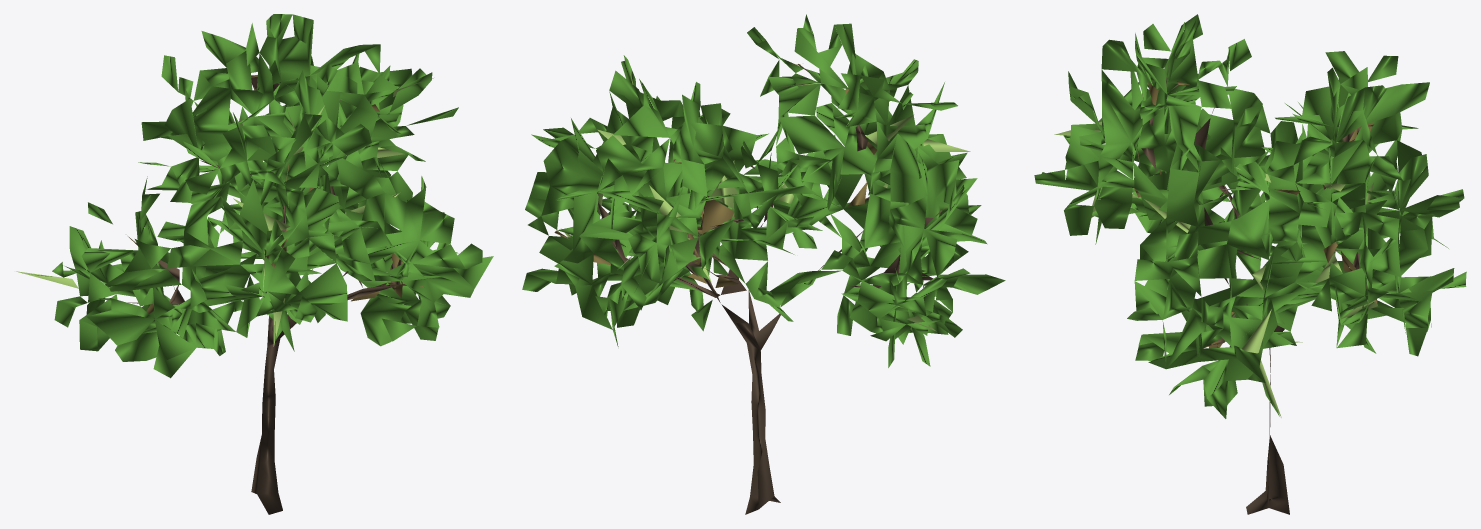
3 views of the same model, side by side, from view 1: azimuth 30°, elevation 25°; view 2: azimuth 150°, elevation 25°; view 3: azimuth 270°, elevation 25° (orthographic). The views are drawn at different scales.
Parts seen in each view (by area): view 1: body; view 2: body; view 3: body.
Boxes of the visible parts, x1=… form: body: x1=16, y1=14, x2=493, y2=514; body: x1=522, y1=14, x2=1005, y2=514; body: x1=1034, y1=14, x2=1466, y2=514.
Size of the model in its own units: 3.54 by 3.75 by 3.01.
1 material, 1 textured.
